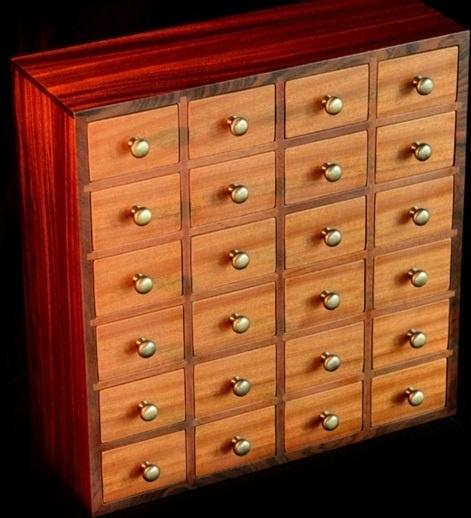cabinet_door: (88, 106, 180, 175), (282, 67, 372, 134), (93, 177, 183, 242), (95, 246, 186, 309), (187, 155, 276, 218), (190, 222, 277, 286), (98, 311, 188, 372), (281, 138, 366, 202), (186, 90, 275, 151), (375, 50, 457, 113), (282, 204, 366, 265), (191, 289, 276, 349), (192, 351, 277, 411), (100, 378, 186, 437), (373, 115, 456, 176), (374, 183, 458, 243), (282, 264, 367, 322), (103, 440, 188, 498), (283, 324, 365, 384), (373, 247, 454, 306), (370, 307, 455, 363), (193, 414, 275, 472), (283, 389, 362, 447), (370, 368, 449, 424)
handle: (131, 332, 158, 364), (225, 111, 251, 143), (130, 267, 155, 300), (128, 200, 153, 233), (319, 158, 346, 188), (226, 308, 253, 338), (225, 179, 251, 210), (126, 132, 151, 164), (408, 135, 434, 165), (319, 92, 346, 120), (407, 202, 432, 232), (228, 373, 253, 402), (227, 245, 252, 274), (320, 221, 344, 251), (319, 287, 343, 317), (137, 397, 161, 427), (411, 71, 435, 100), (320, 350, 344, 376), (407, 265, 430, 292), (140, 460, 163, 487), (231, 435, 253, 461), (320, 411, 342, 434), (404, 387, 426, 410), (407, 328, 428, 352)
